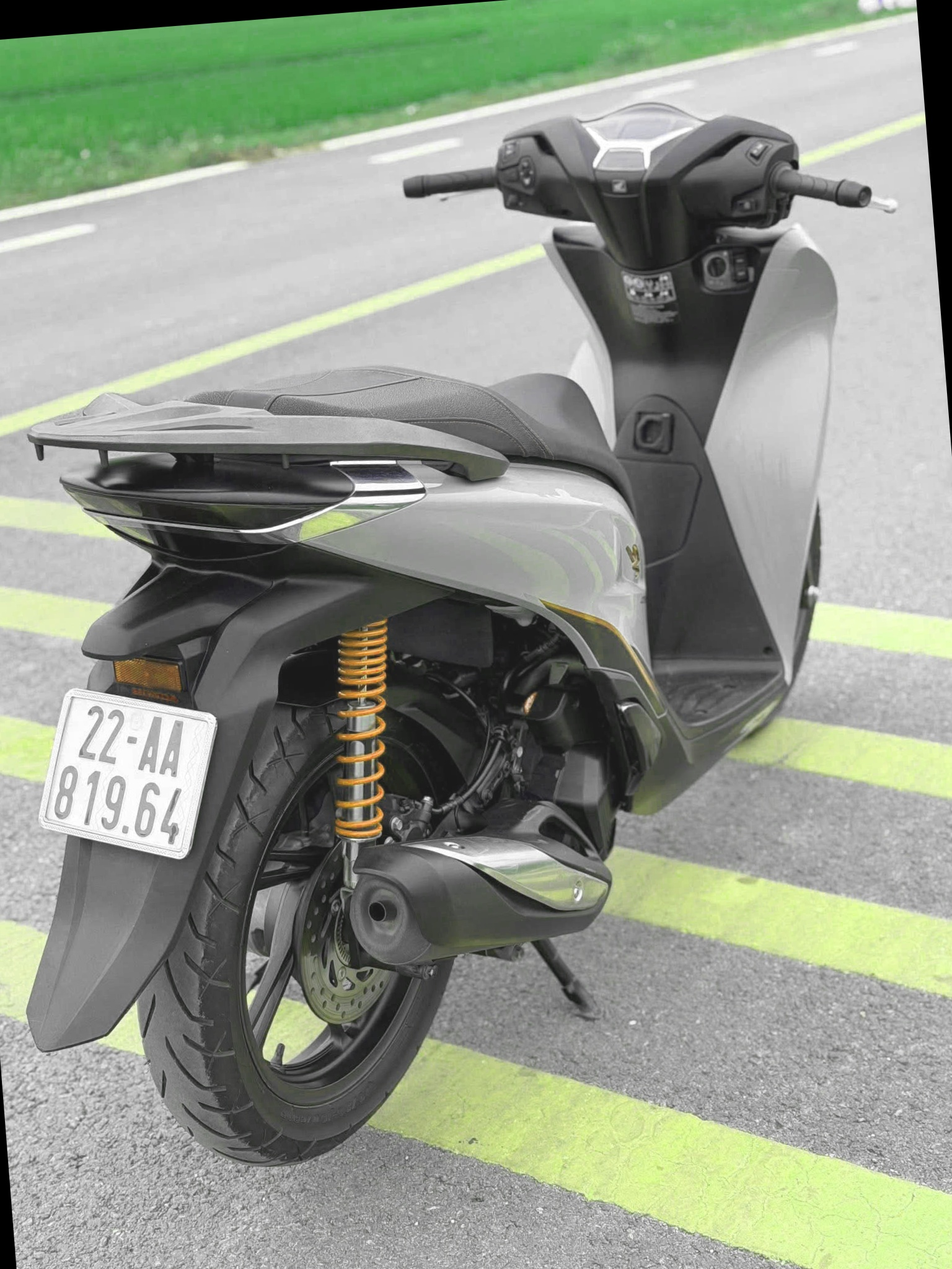Bien-so: (24, 670, 237, 868)
